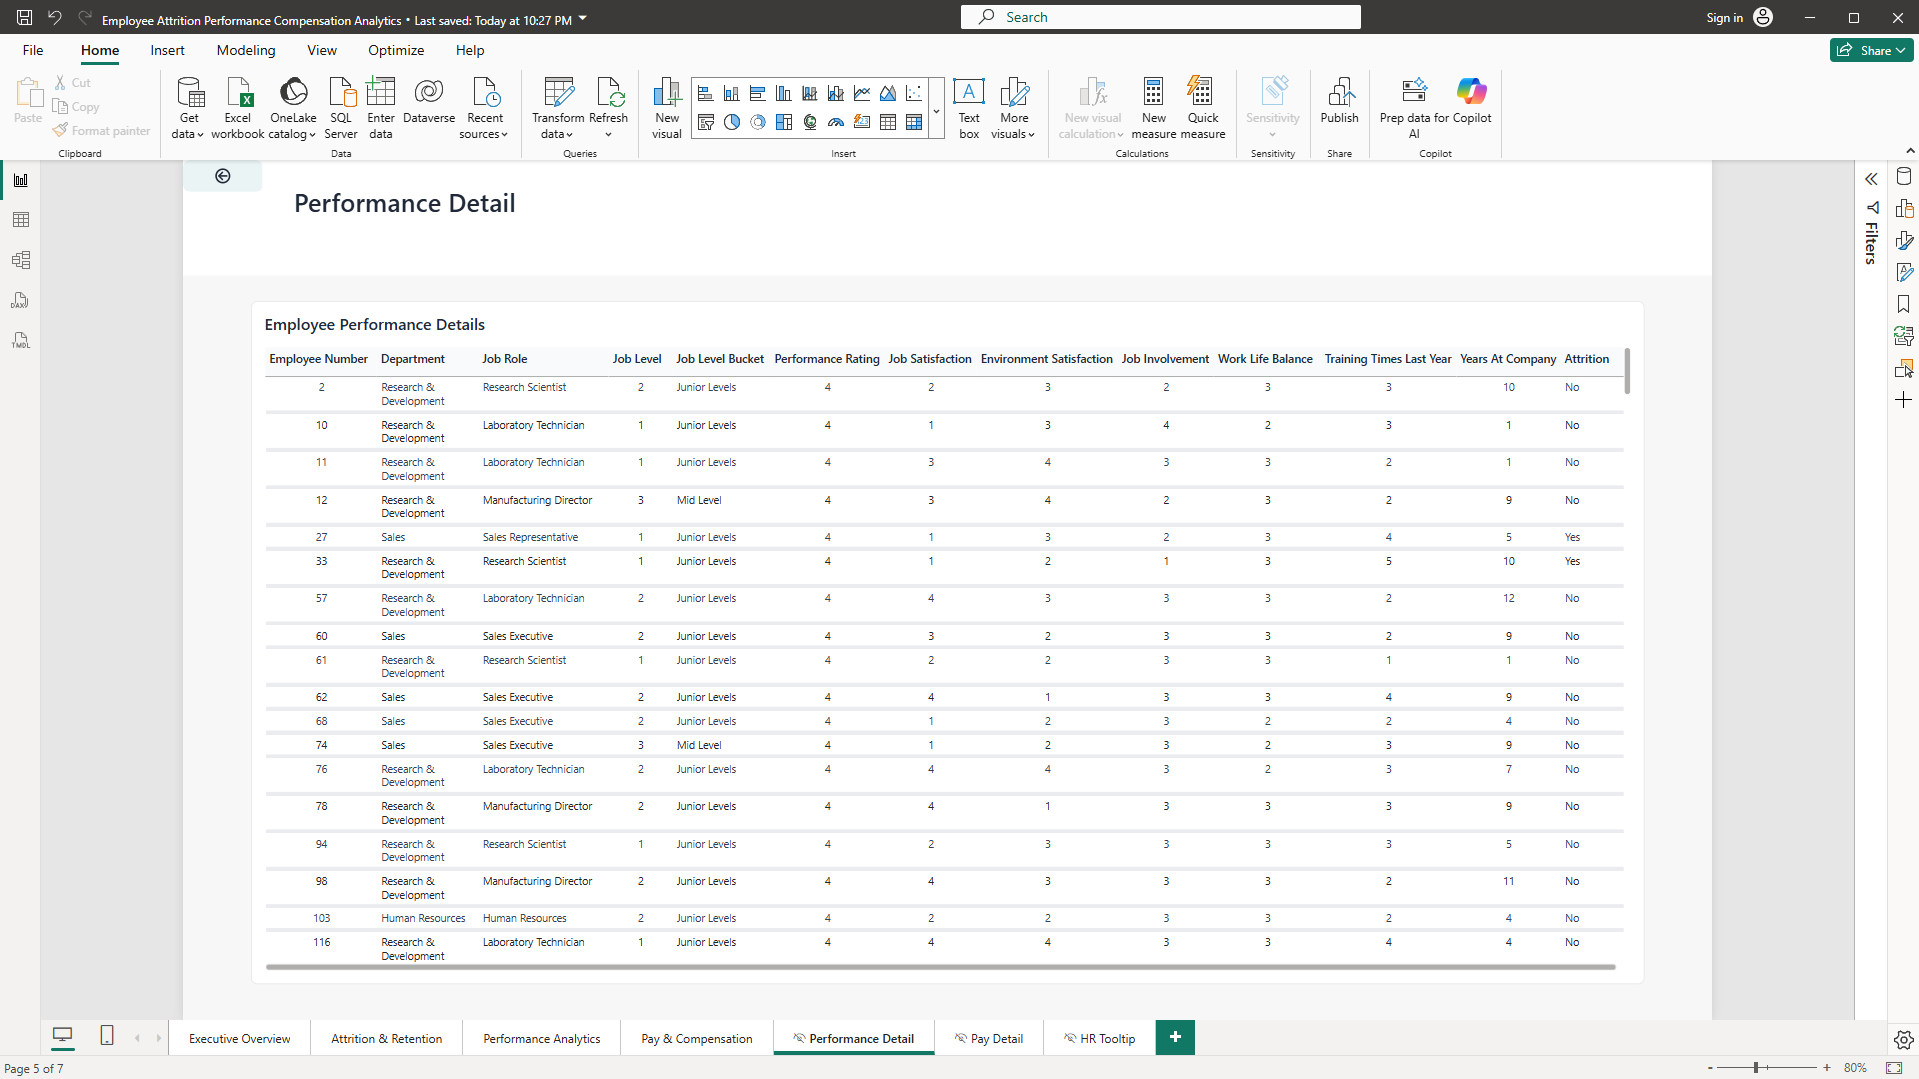

What the dashboard file says about the page in this screenshot:
{"tool":"powerbi","page":{"name":"Performance Detail","canvas":[1920,1080],"ordinal":4},"visuals":[{"type":"shape","box":[0,0,1920,145],"z":0},{"type":"textbox","box":[140,30,850,45],"z":1000},{"type":"actionButton","box":[0,0,100,40],"z":2000},{"type":"tableEx","title":"Employee Performance Details","fields":{"Values":["Employee Data.Employee Number","Employee Data.Department","Employee Data.Job Role","Employee Data.Job Level","Employee Data.Job Level Bucket","Employee Data.Performance Rating","Employee Data.Job Satisfaction","Employee Data.Environment Satisfaction","Employee Data.Job Involvement","Employee Data.Work Life Balance","Employee Data.Training Times Last Year","Employee Data.Years At Company"]},"box":[85,177.5,1750,857.5],"z":3000}]}

Visuals, with their boxes on the page's 1920x1080 design canvas (x1, y1, x2, y2). These are canvas units, not pixel positions in the 1919x1079 screenshot, which may show the page scaled, cropped or inside an application window:
shape: <box>0,0,1920,145</box>
textbox: <box>140,30,990,75</box>
actionButton: <box>0,0,100,40</box>
"Employee Performance Details" tableEx: <box>85,178,1835,1035</box>
